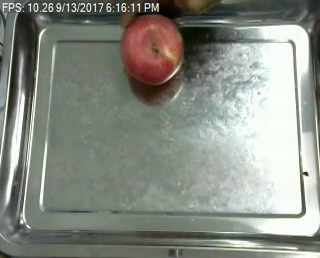Apple: (119, 8, 185, 85)
